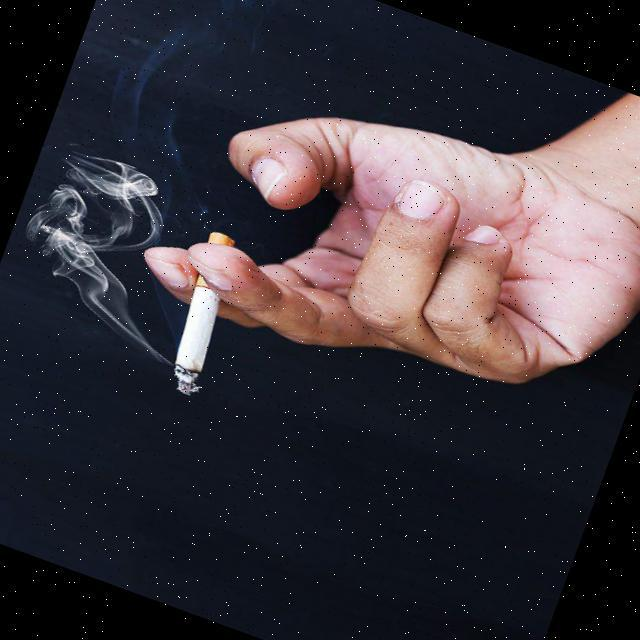cigarette: (154, 228, 253, 398)
